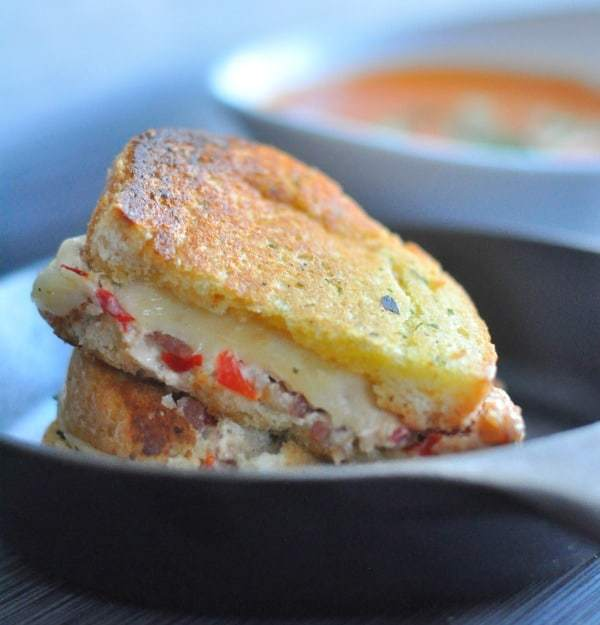cheese: (93, 262, 350, 420)
